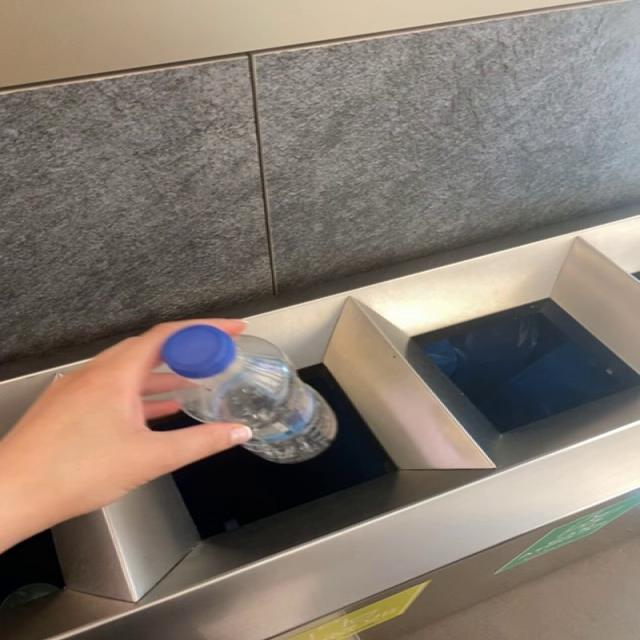plastic: (161, 325, 337, 464)
